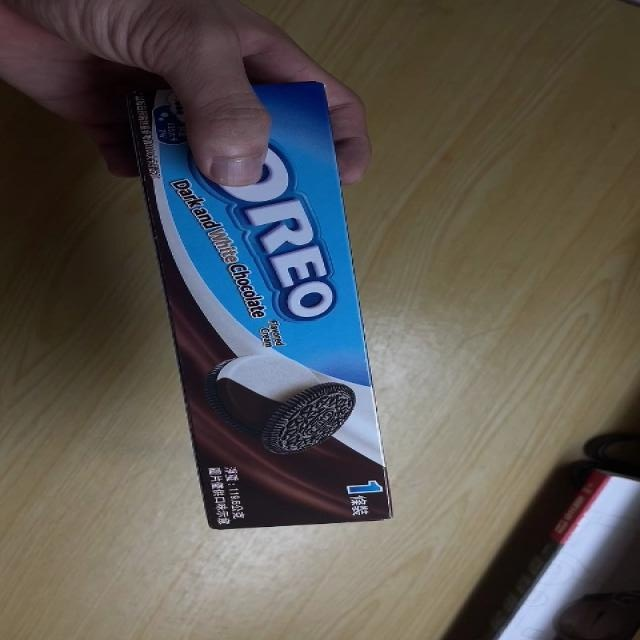Oreo: (132, 82, 397, 531)
